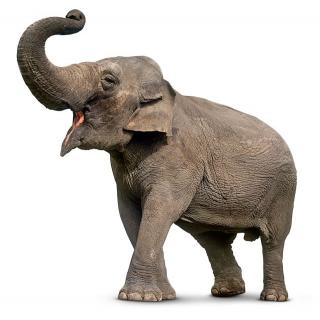Elephant: (15, 0, 303, 312)
